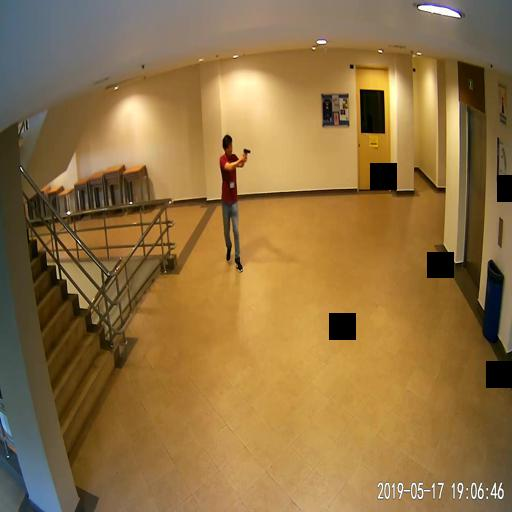Handgun: (242, 145, 249, 159)
